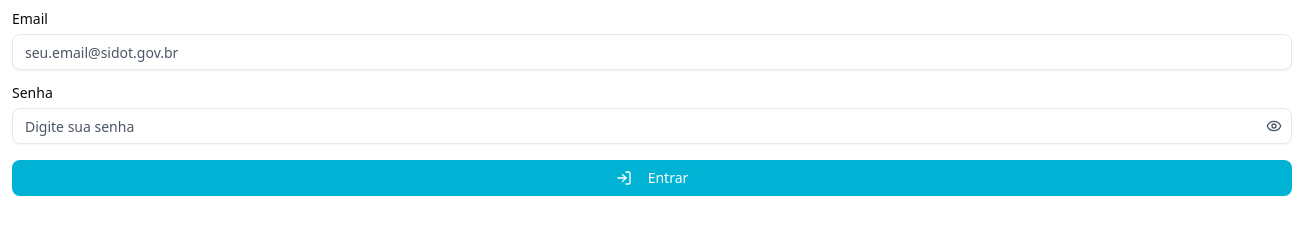
Test case: LoginForm › shows validation error for short password
Step 1. Type "test@example.com" into the field labelled "Email" → (652, 52), box 12,34 -> 1292,70
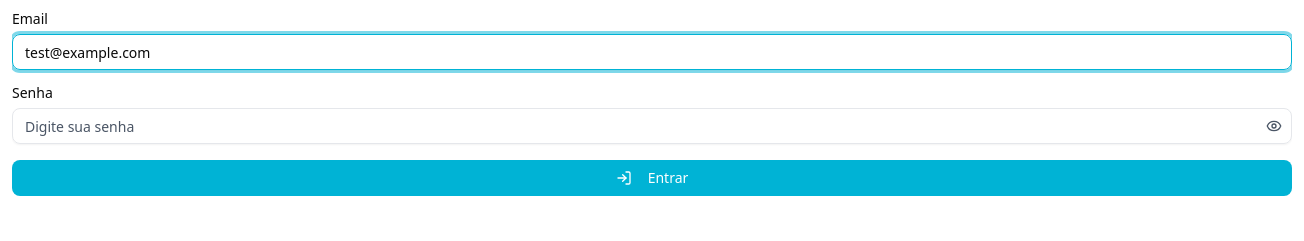
Step 2. Type "123" into the password field with placeholder "Digite sua senha" → (652, 126), box 12,108 -> 1292,144
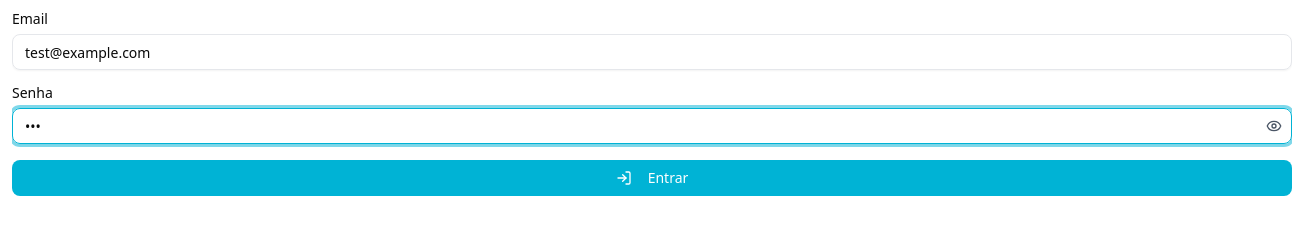
Step 3. Click the button "Entrar" → click(652, 178), box 12,160 -> 1292,196
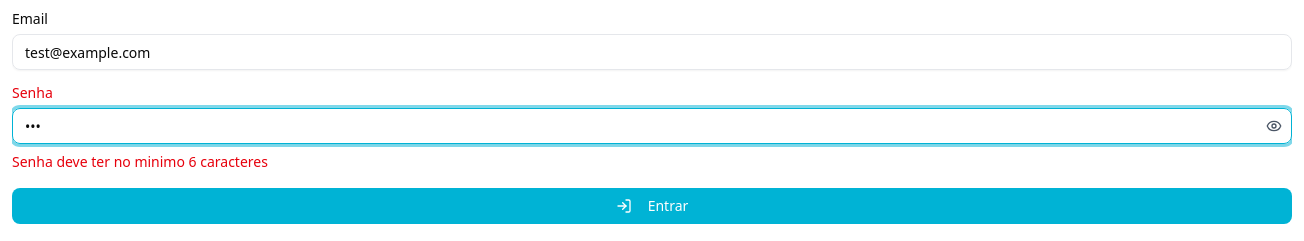
Expected: the text "Senha deve ter no minimo 6 caracteres" is shown, 12,152 -> 268,171
